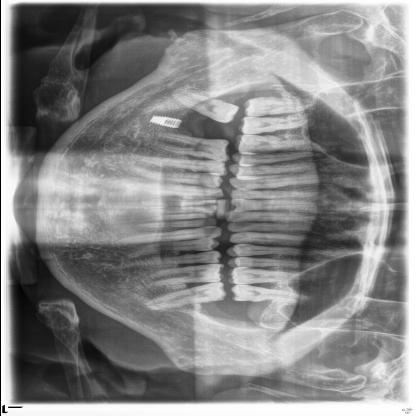Bicon: (148, 113, 184, 130)
